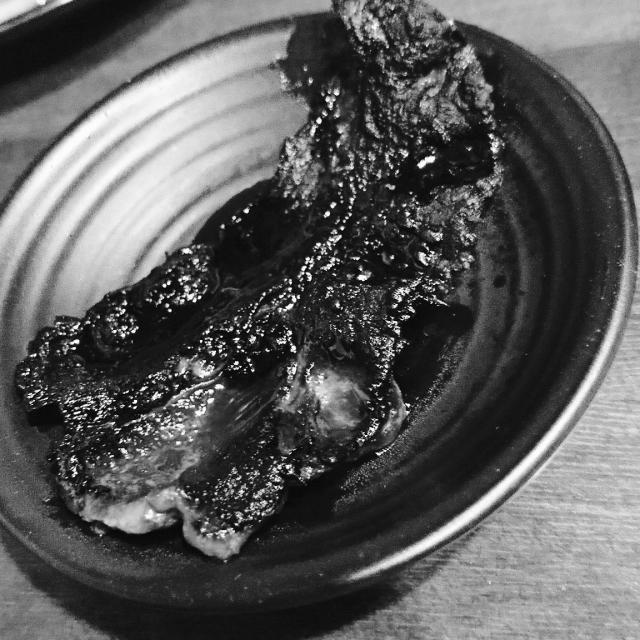overcooked beef,: (17, 0, 514, 573)
